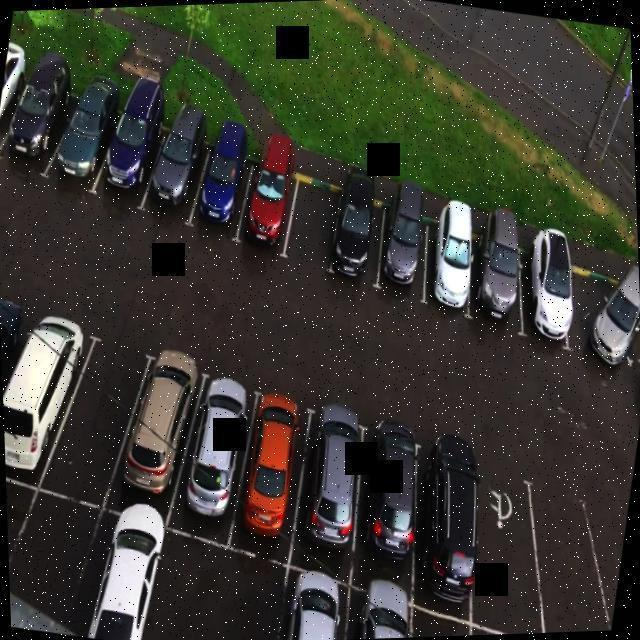empty: (44, 338, 150, 520), (455, 452, 559, 635), (518, 478, 626, 634), (6, 479, 102, 633), (272, 156, 354, 302), (5, 466, 26, 586), (400, 606, 474, 638)
occupied: (392, 426, 499, 618), (283, 392, 380, 584), (342, 418, 434, 600), (0, 303, 88, 492), (112, 351, 204, 526), (228, 380, 317, 560), (76, 498, 177, 640), (179, 380, 262, 548), (228, 126, 309, 276), (456, 212, 542, 351), (364, 182, 444, 315), (50, 78, 122, 212), (410, 200, 484, 330), (552, 260, 630, 382), (146, 104, 213, 241), (100, 88, 168, 222), (3, 58, 72, 188), (321, 167, 391, 294), (188, 123, 260, 245), (514, 237, 583, 360), (267, 569, 358, 640), (0, 279, 24, 475), (338, 582, 419, 640), (0, 48, 26, 177)
